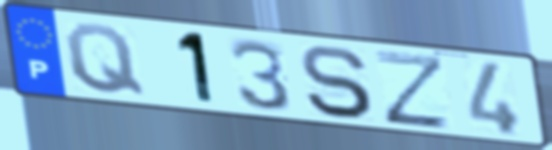1: (170, 29, 218, 109)
3: (227, 36, 294, 114)
4: (464, 58, 524, 137)
Q: (61, 21, 149, 98)
S: (298, 43, 377, 121)
Z: (371, 48, 454, 132)
